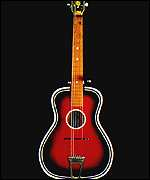guitar: (38, 1, 114, 179)
